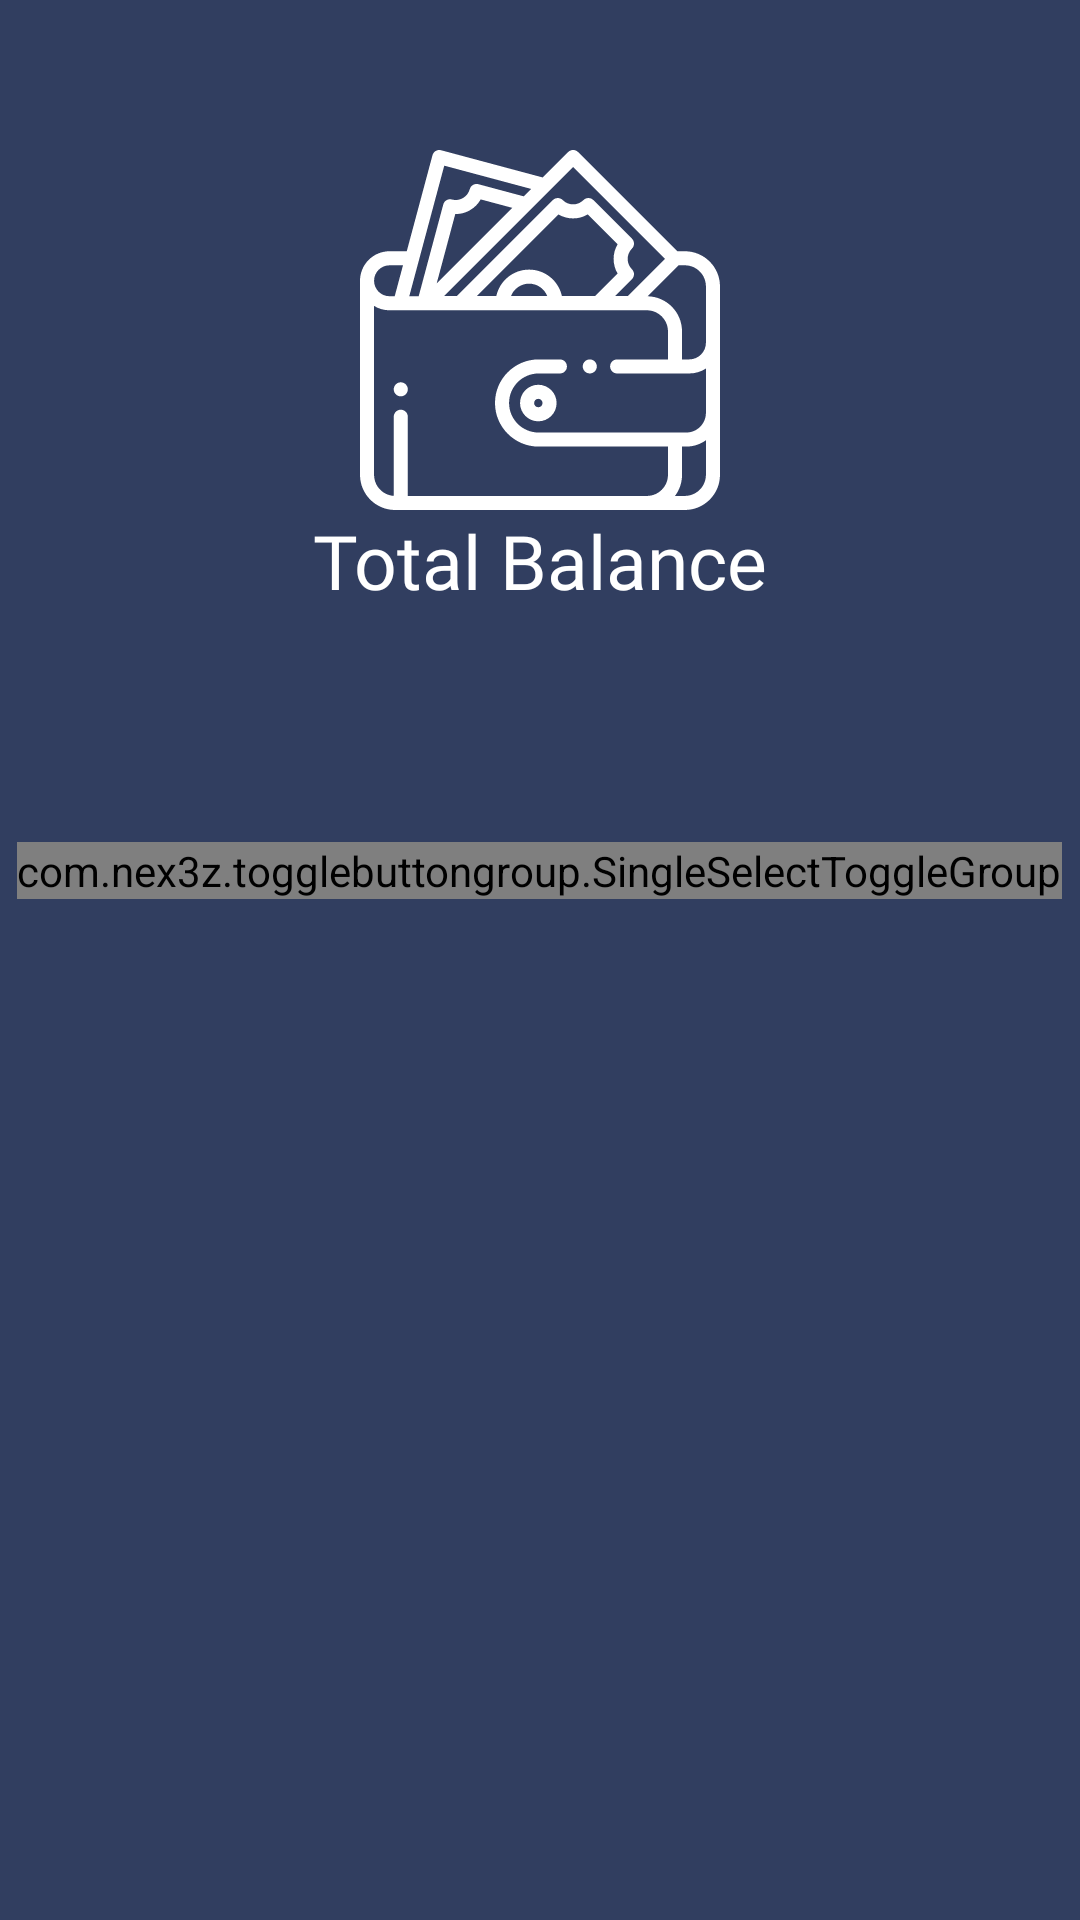

Icon bounding boxes for this 1080x1920 phone screenshot, format Rect(x1, y1, x2, y2):
wallet: Rect(360, 150, 720, 510)
